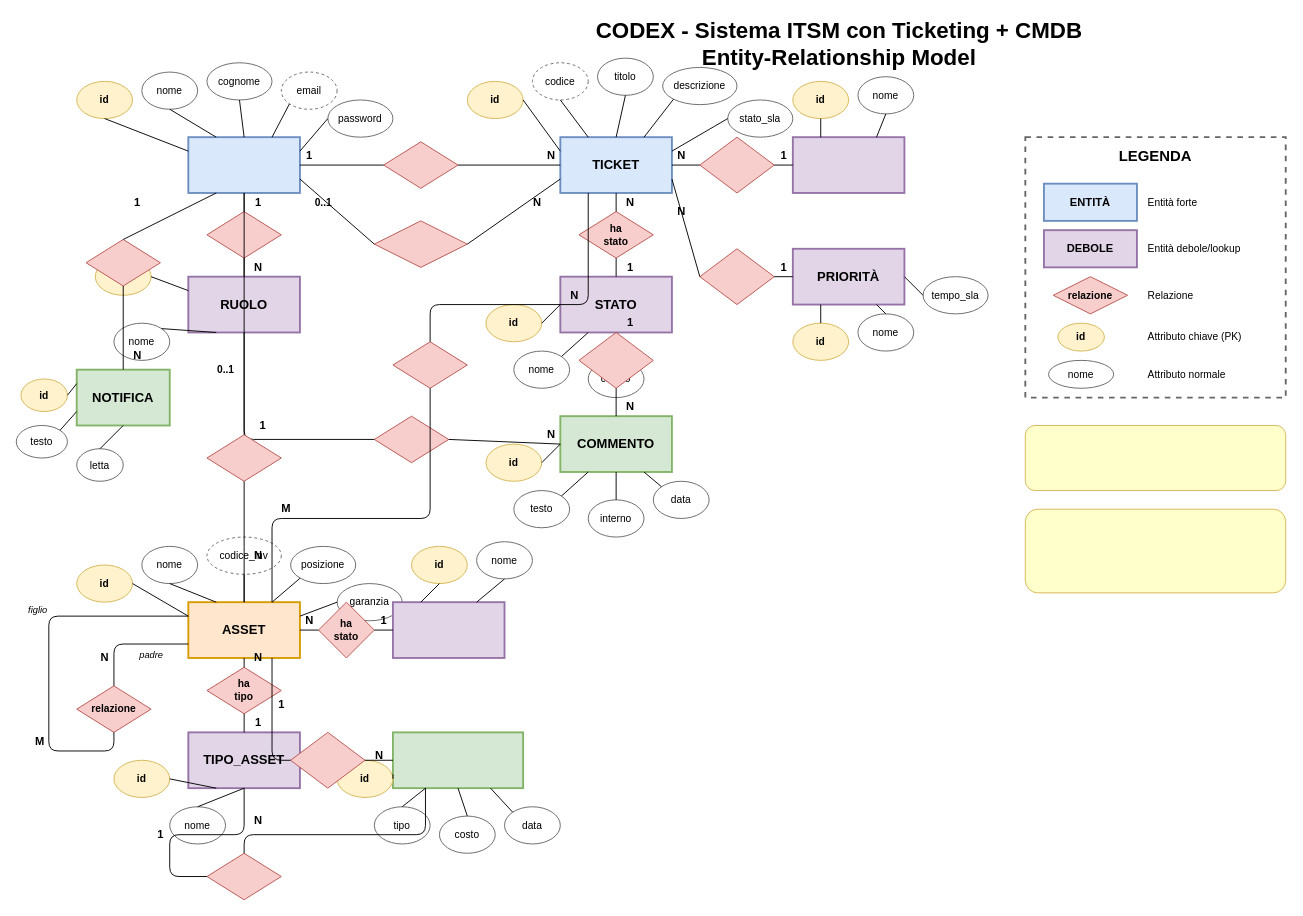
The diagram is 1303 pixels wide and 916 high, and some of its shapes have lost their labels. Here are the shapes that lost their labels. From the top down, the centre of each, then its label:
pixel 243 164: UTENTE
pixel 420 164: crea
pixel 736 164: ha categoria
pixel 848 164: CATEGORIA
pixel 243 234: ha
pixel 420 243: assegnato_a
pixel 122 262: riceve
pixel 736 276: ha priorità
pixel 429 364: collega
pixel 615 360: ha commenti
pixel 243 457: assegnato
pixel 411 439: scrive
pixel 1155 458: N:M = Molti a Molti 1:N = Uno a Molti 0..1 = Zero o Uno
pixel 1155 550: MODULO TICKETING: Blu MODULO CMDB: Arancione SUPPORTO: Verde LOOKUP: Viola
pixel 448 629: STATO_ASSET
pixel 327 759: ha manutenz.
pixel 458 760: MANUTENZIONE
pixel 243 876: esegue
